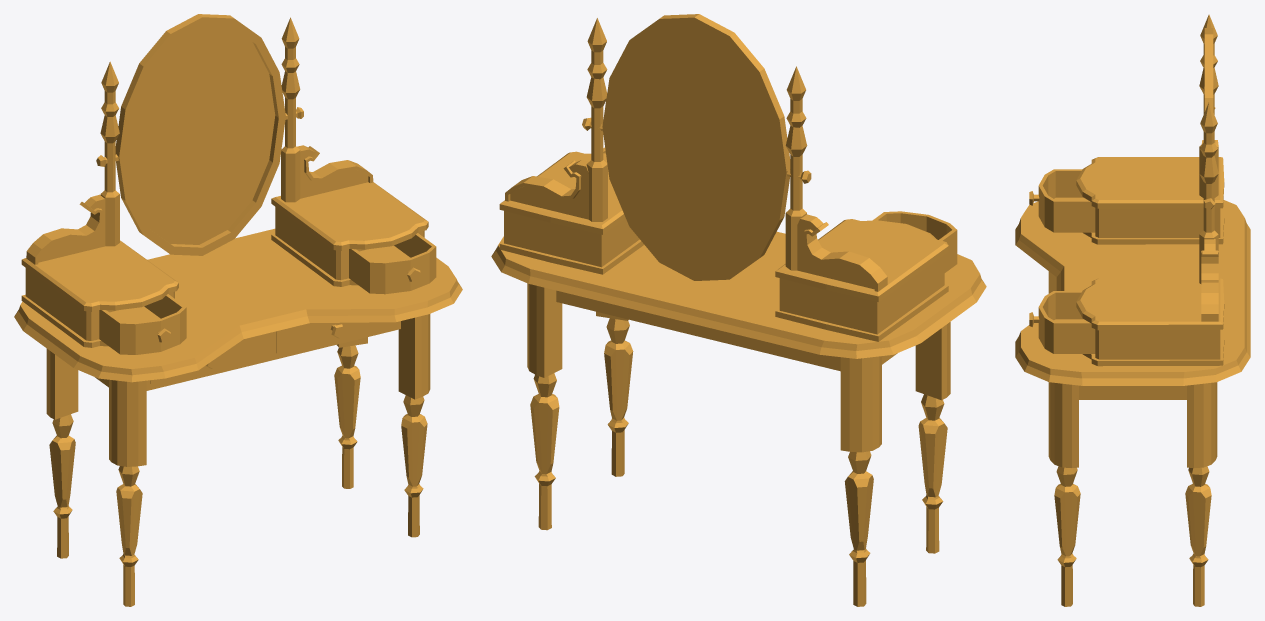
File: SM_Vanity_Victorian.fbx
3 views of the same model, side by side, from view 1: azimuth 30°, elevation 25°; view 2: azimuth 150°, elevation 25°; view 3: azimuth 270°, elevation 25° (orthographic). The views are drawn at different scales.
Visible parts, largest first — view 1: vanity-victorian-base, vanity-victorian-drawer-b, vanity-victorian-drawer-a, vanity-victorian-drawer-d, vanity-victorian-drawer-c; view 2: vanity-victorian-base, vanity-victorian-drawer-a; view 3: vanity-victorian-base, vanity-victorian-drawer-a, vanity-victorian-drawer-b.
Boxes of the visible parts, box(x1,y1,x2,y2) form: vanity-victorian-base: box(14, 14, 462, 606); vanity-victorian-drawer-b: box(349, 233, 436, 294); vanity-victorian-drawer-a: box(99, 294, 186, 354); vanity-victorian-drawer-d: box(276, 322, 390, 353); vanity-victorian-drawer-c: box(150, 334, 264, 383); vanity-victorian-base: box(491, 14, 986, 606); vanity-victorian-drawer-a: box(872, 211, 957, 272); vanity-victorian-base: box(1015, 14, 1250, 606); vanity-victorian-drawer-a: box(1029, 169, 1095, 232); vanity-victorian-drawer-b: box(1029, 291, 1095, 353).
Bounding box in the file's own units: 1.35 × 1.71 × 0.7272.
